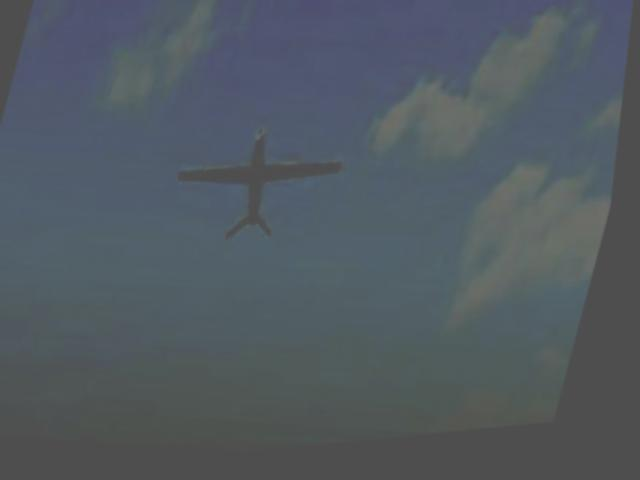iha: (165, 104, 358, 266)
